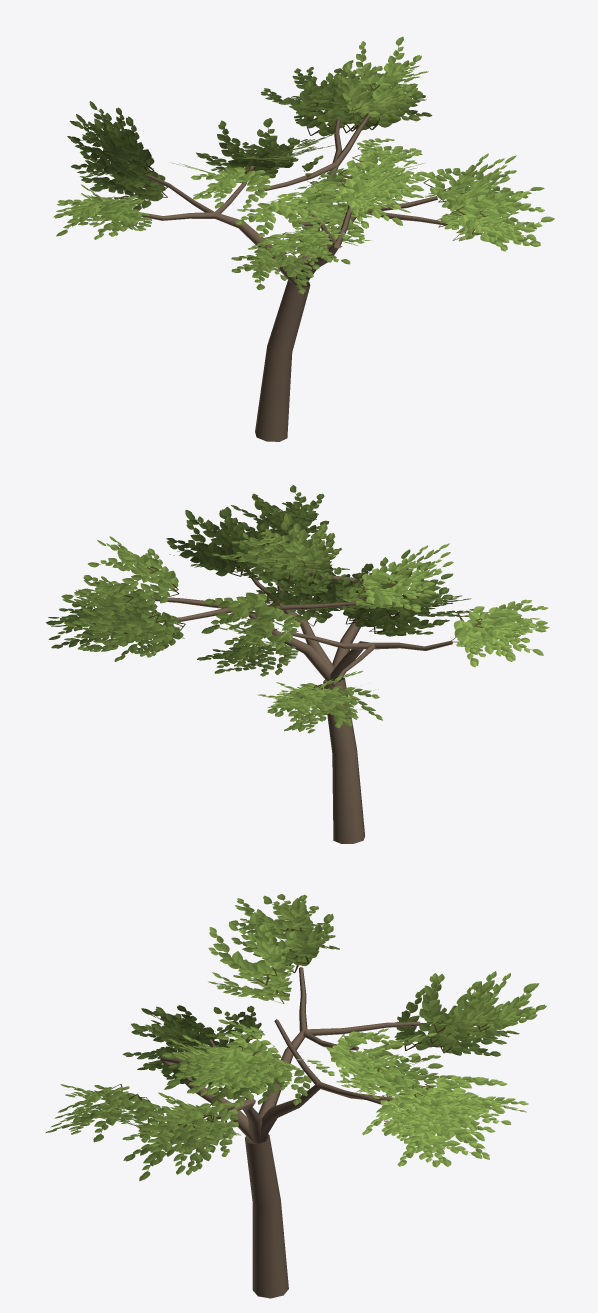
The model's file is acacia_1_mid.glb.
3 renders of one model, top to bottom at view 1: azimuth 30°, elevation 25°; view 2: azimuth 150°, elevation 25°; view 3: azimuth 270°, elevation 25°, orthographic. The views are drawn at different scales.
Parts seen in each view (by area): view 1: acacia_1_mid; view 2: acacia_1_mid; view 3: acacia_1_mid.
Boxes of the visible parts, x1,y1,x2,y2 form: acacia_1_mid: (53, 36, 554, 441); acacia_1_mid: (46, 485, 549, 843); acacia_1_mid: (45, 894, 546, 1298).
Bounding box in the file's own units: 10.71 × 6.69 × 10.03.
2 materials, 1 textured.
